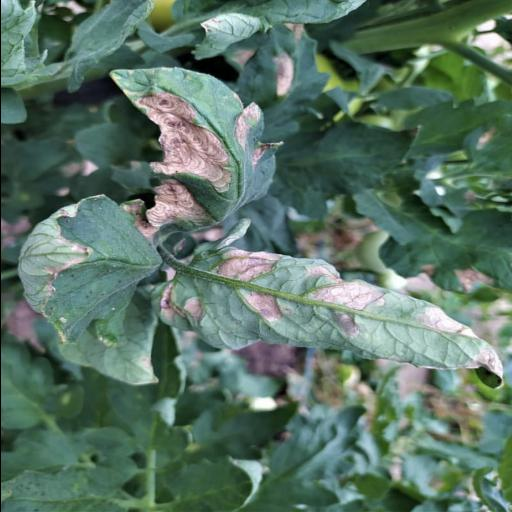Early Blight: (167, 250, 501, 376), (108, 66, 282, 204)
